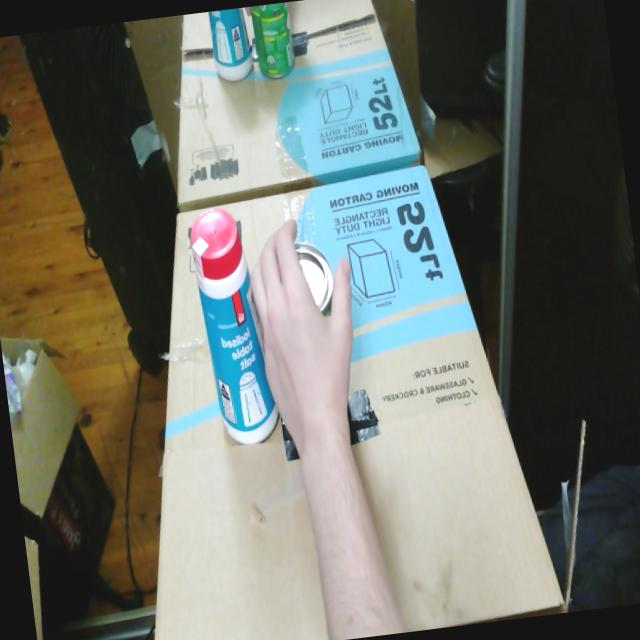nestle_milo_tin: (294, 242, 332, 315)
woolworths_salt_bottle: (190, 207, 278, 443)
